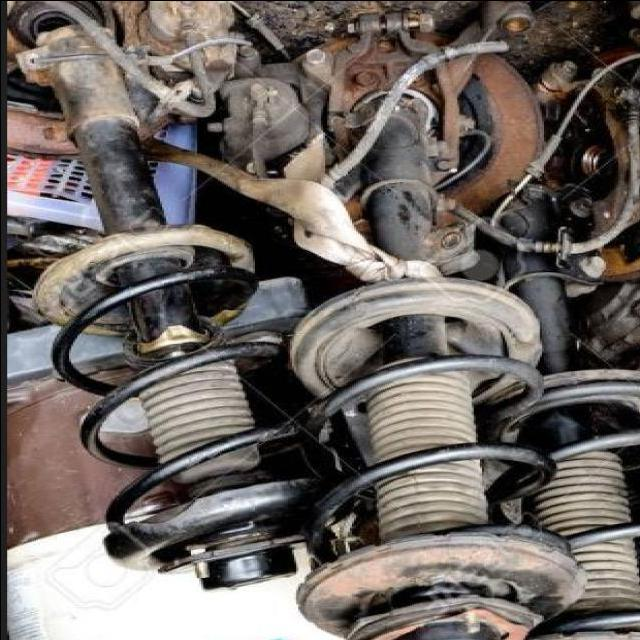shock absorber: (17, 23, 307, 592), (286, 86, 583, 640)
